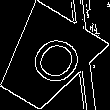O_SW: (12, 27, 81, 93)
